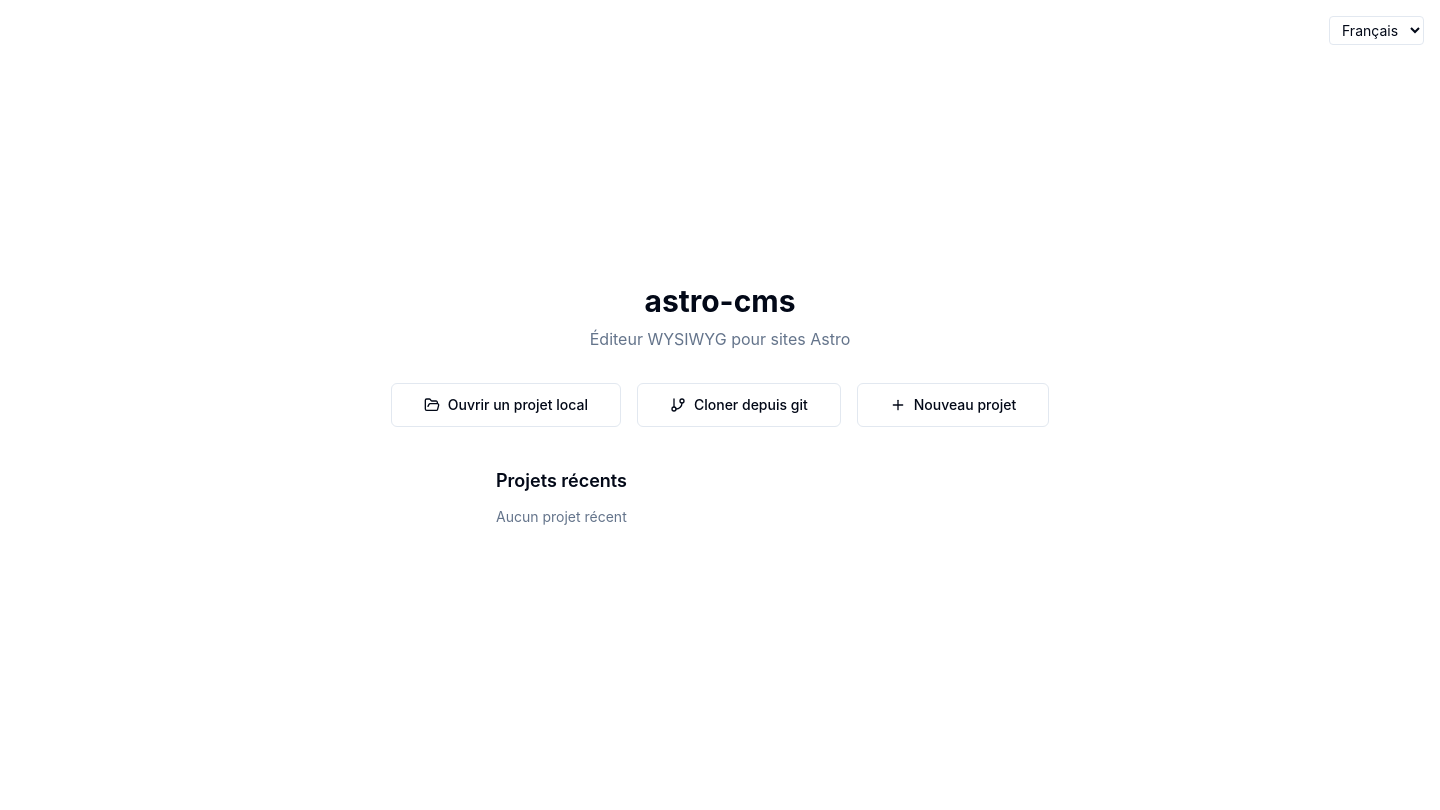
App flow › shows error message for an invalid project
Click the button "Ouvrir un projet local" at (506, 405), box x1=391 y1=383 x2=621 y2=427
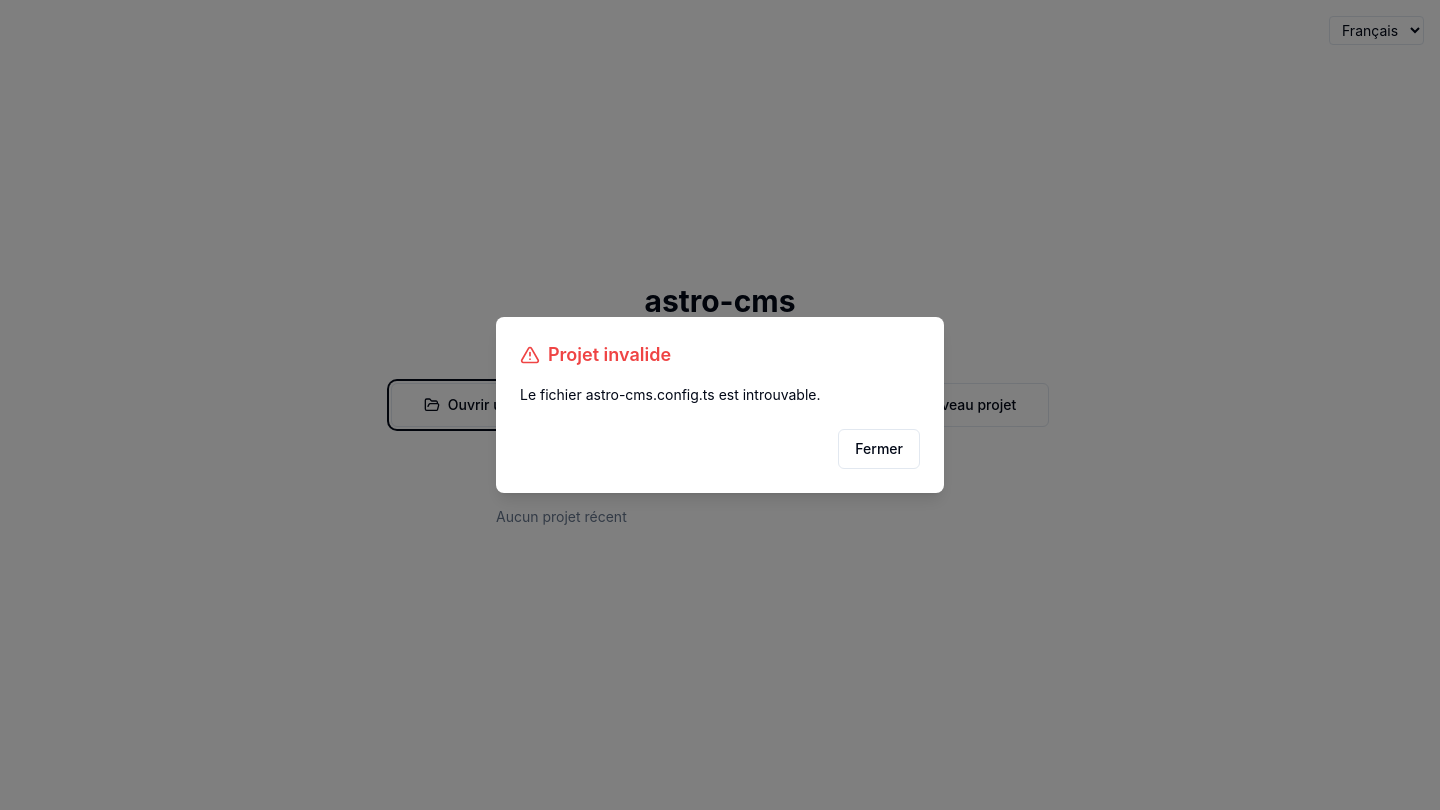
Expected: the list item "Le fichier astro-cms.config.ts est introuvable." is shown, x1=520 y1=386 x2=820 y2=403
